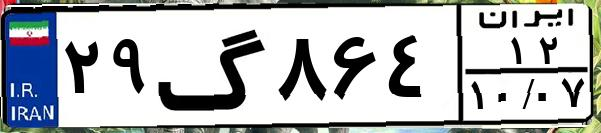0: (495, 70, 520, 125), (535, 70, 560, 125)
1: (508, 27, 537, 80), (470, 70, 495, 125)
2: (57, 26, 110, 100), (537, 27, 568, 80)
4: (385, 28, 445, 110)
6: (330, 28, 385, 110)
7: (560, 70, 590, 125)
8: (270, 28, 330, 110)
9: (110, 28, 156, 98)
گ: (156, 12, 270, 120)
